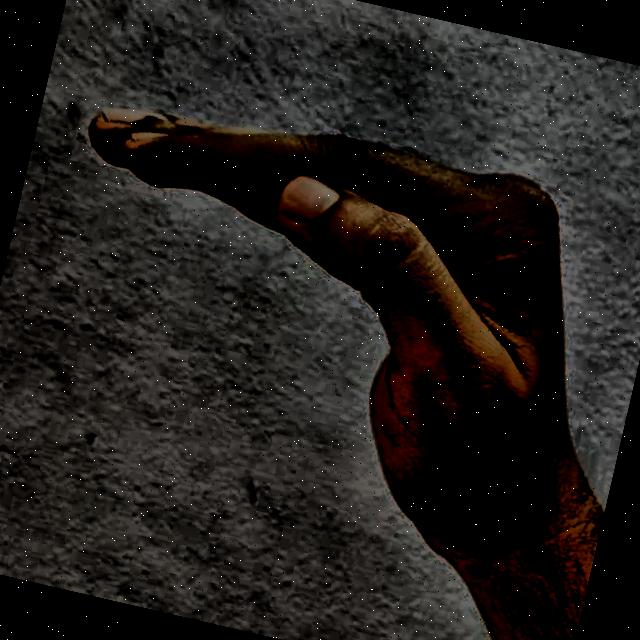Ga: (0, 41, 640, 611)
